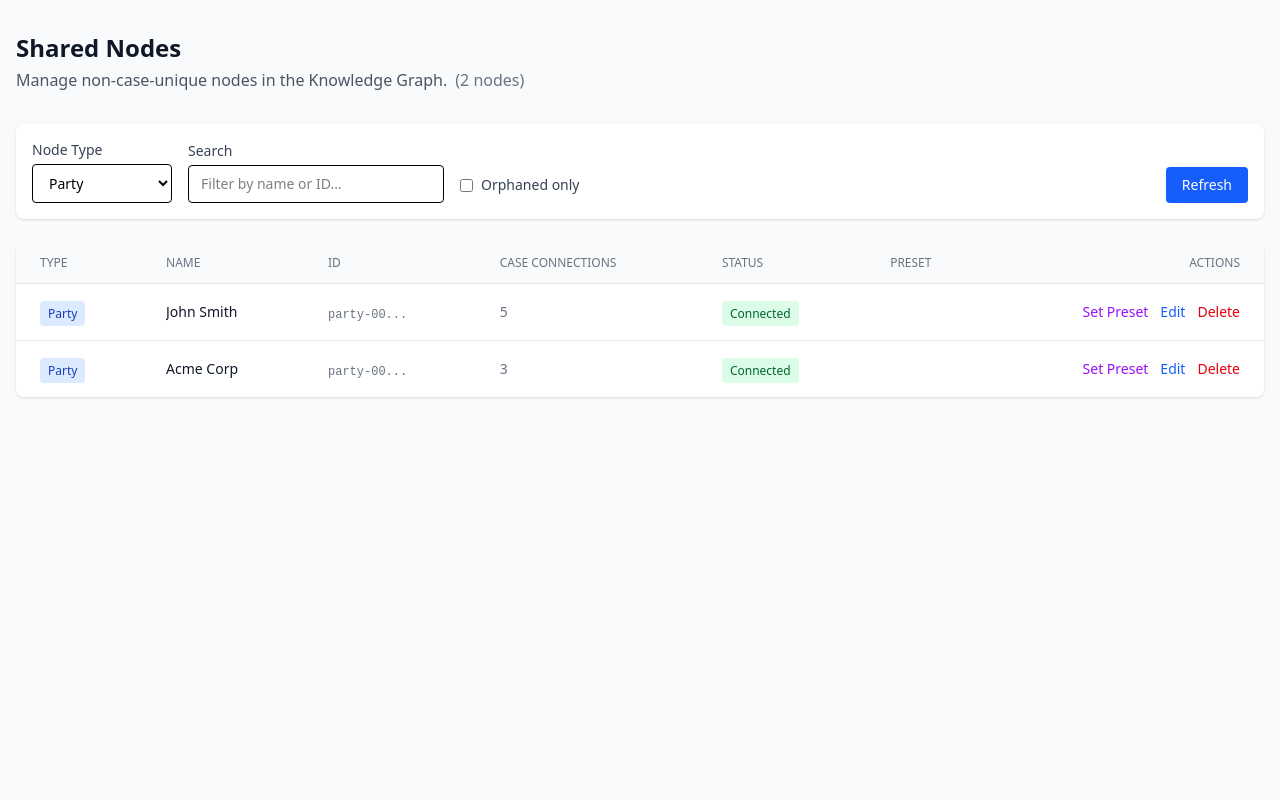
SharedNodesPage › Delete Modal › opens delete modal when Delete button is clicked
The width and height of the screenshot is (1280, 800).
Check: the text "John Smith" is shown, box [166,302,237,321]
Click the button "Delete" in the row of "John Smith" at (1219, 312), box [1197,302,1240,322]
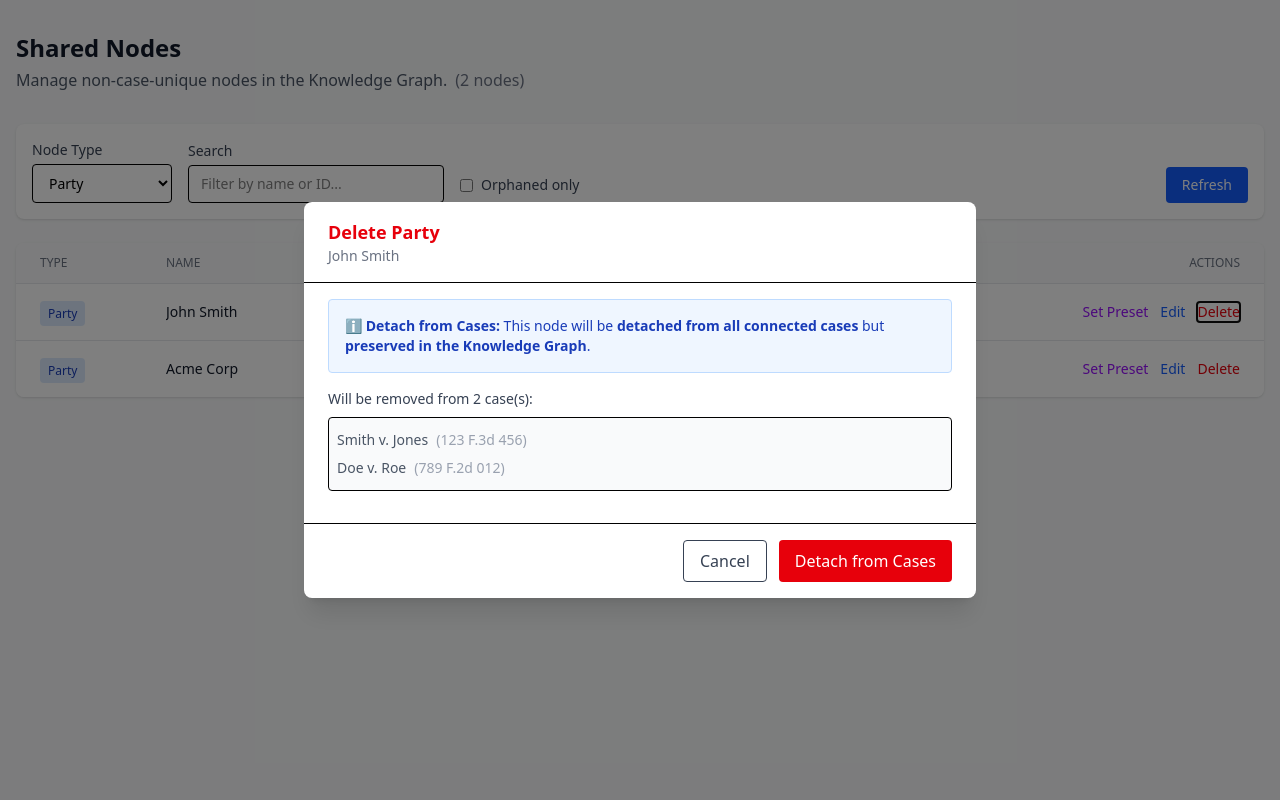
Check: the heading "Delete Party" is shown, box [328,220,440,244]
